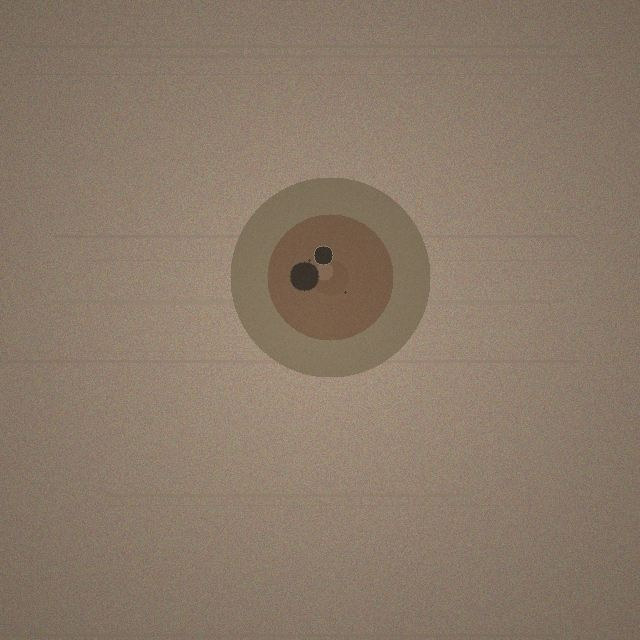shrinkage: (230, 177, 430, 377)
